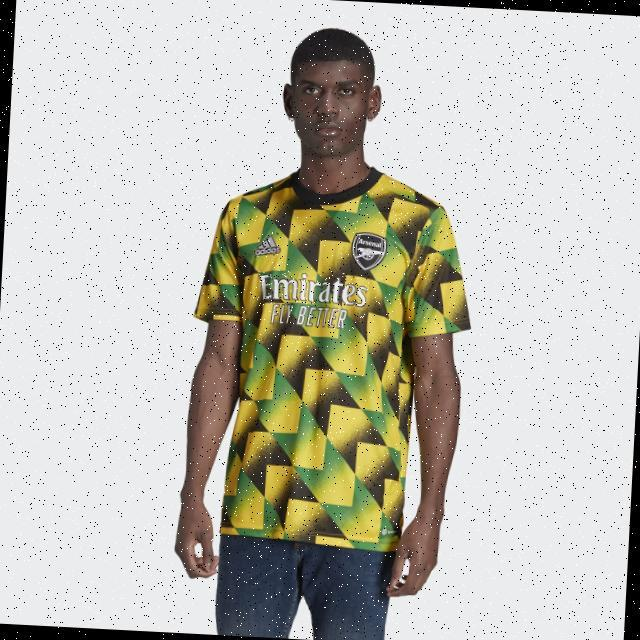Adidas: (256, 232, 283, 259)
Emirates: (257, 269, 369, 309)
